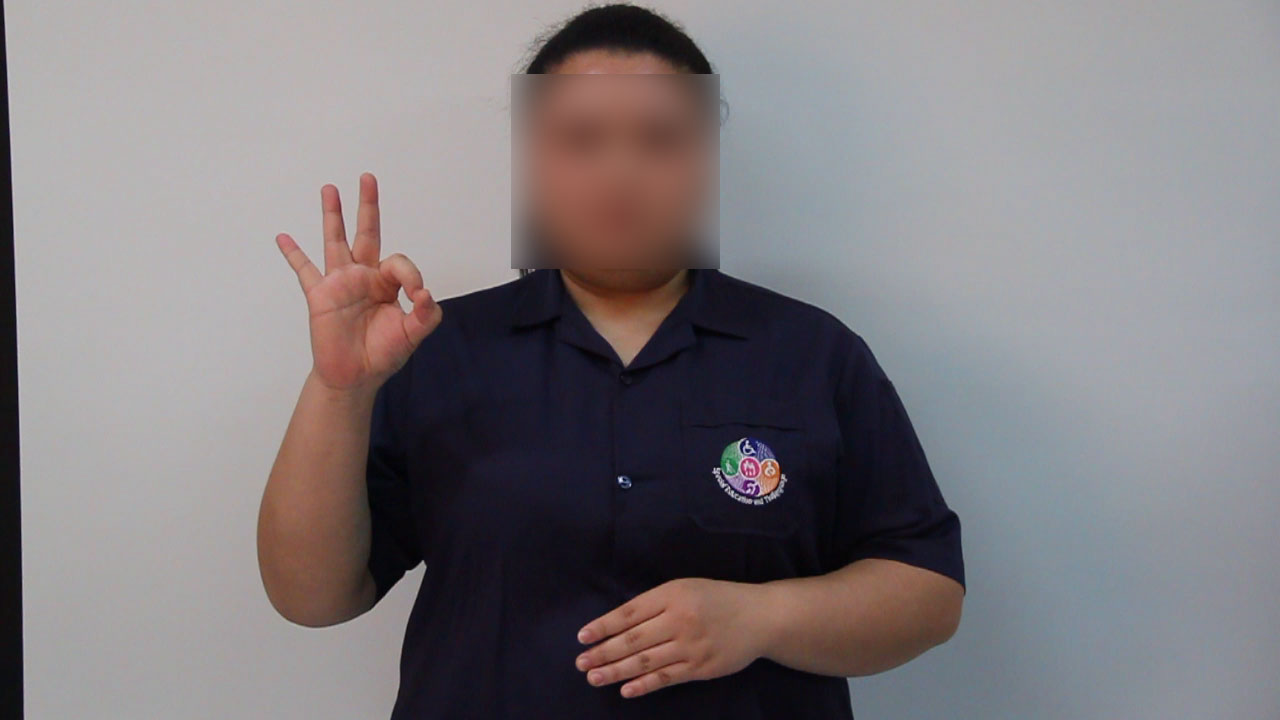for: (271, 158, 447, 398)
